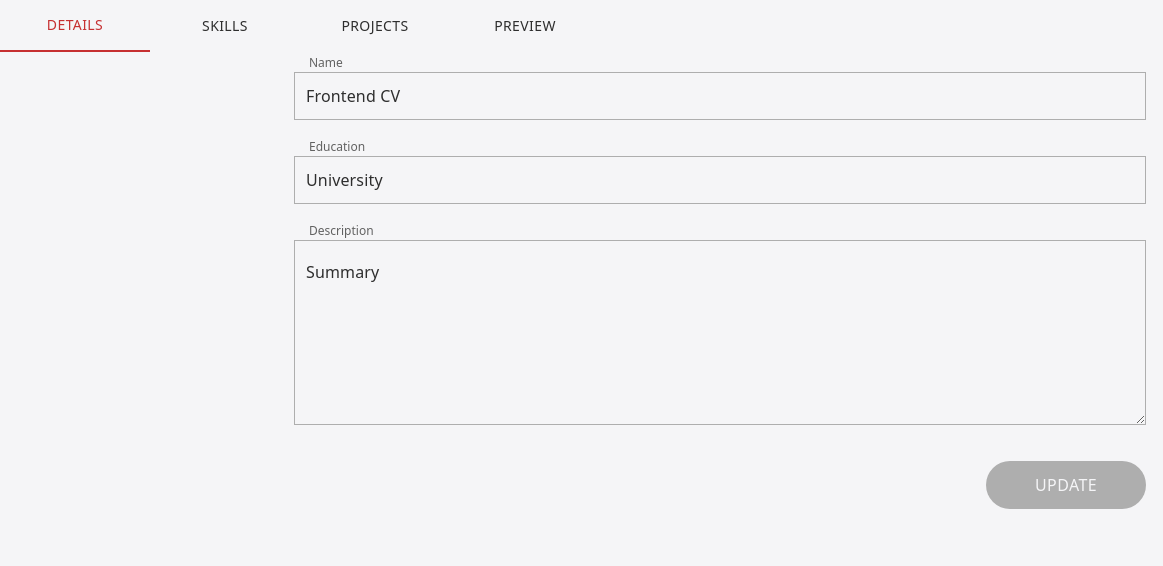
Test: CV details › keeps entered values and exposes an error when save fails
Replace the text in the text box labelled "Description" with "Updated summary": x=720, y=332 x1=294 y1=240 x2=1146 y2=425
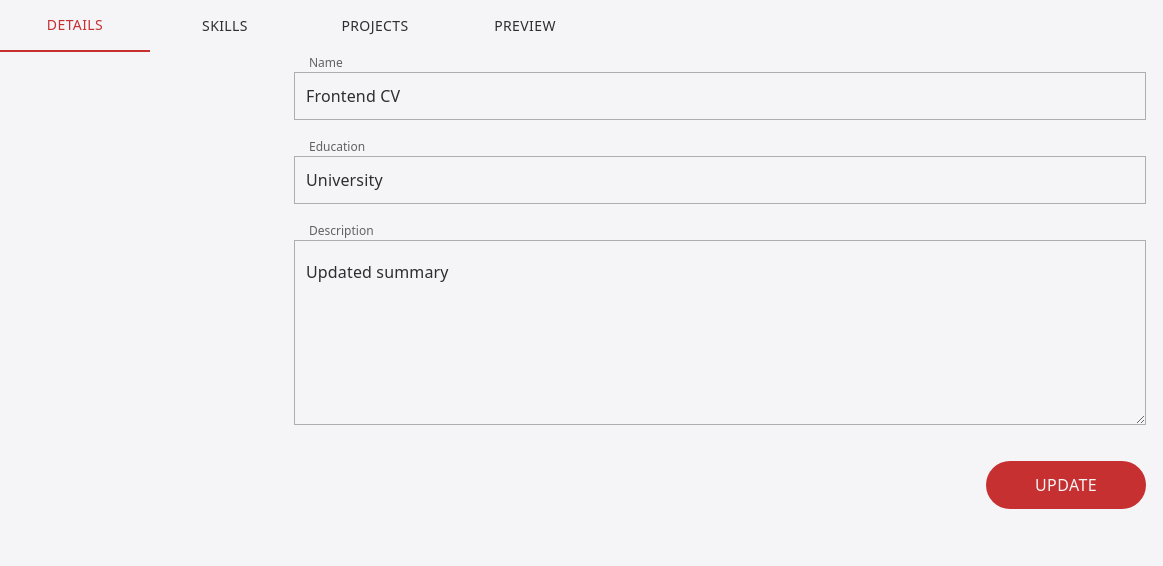
Click the button "Update": x=1066, y=485 x1=986 y1=461 x2=1146 y2=509
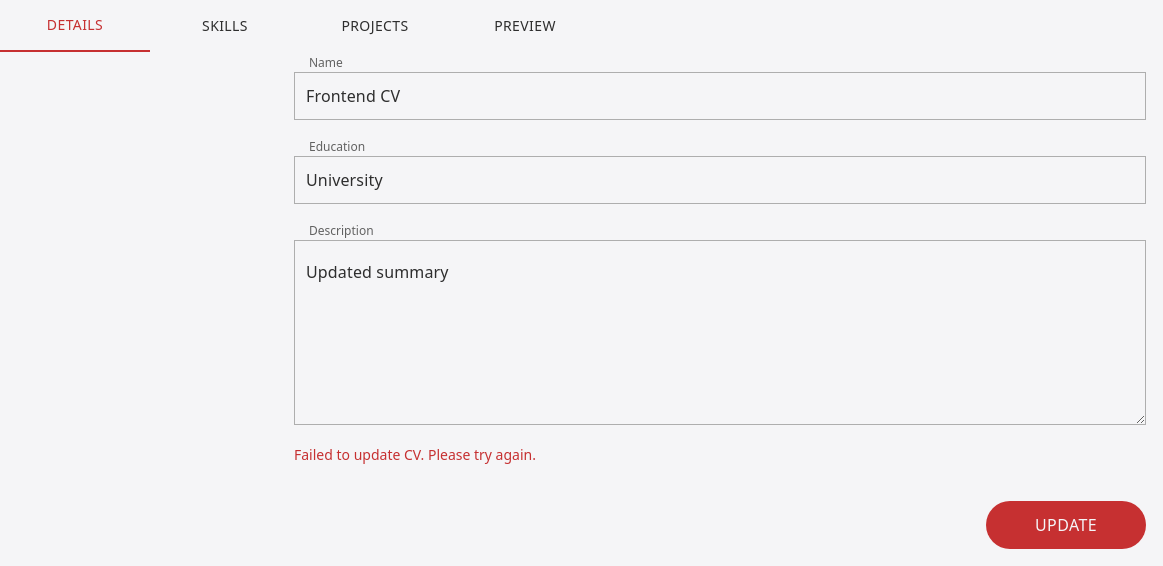
Expected: the message shows "Failed to update CV", x1=294 y1=445 x2=536 y2=464
